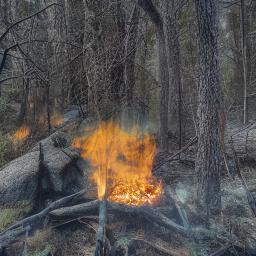Small fire: (69, 112, 187, 221)
